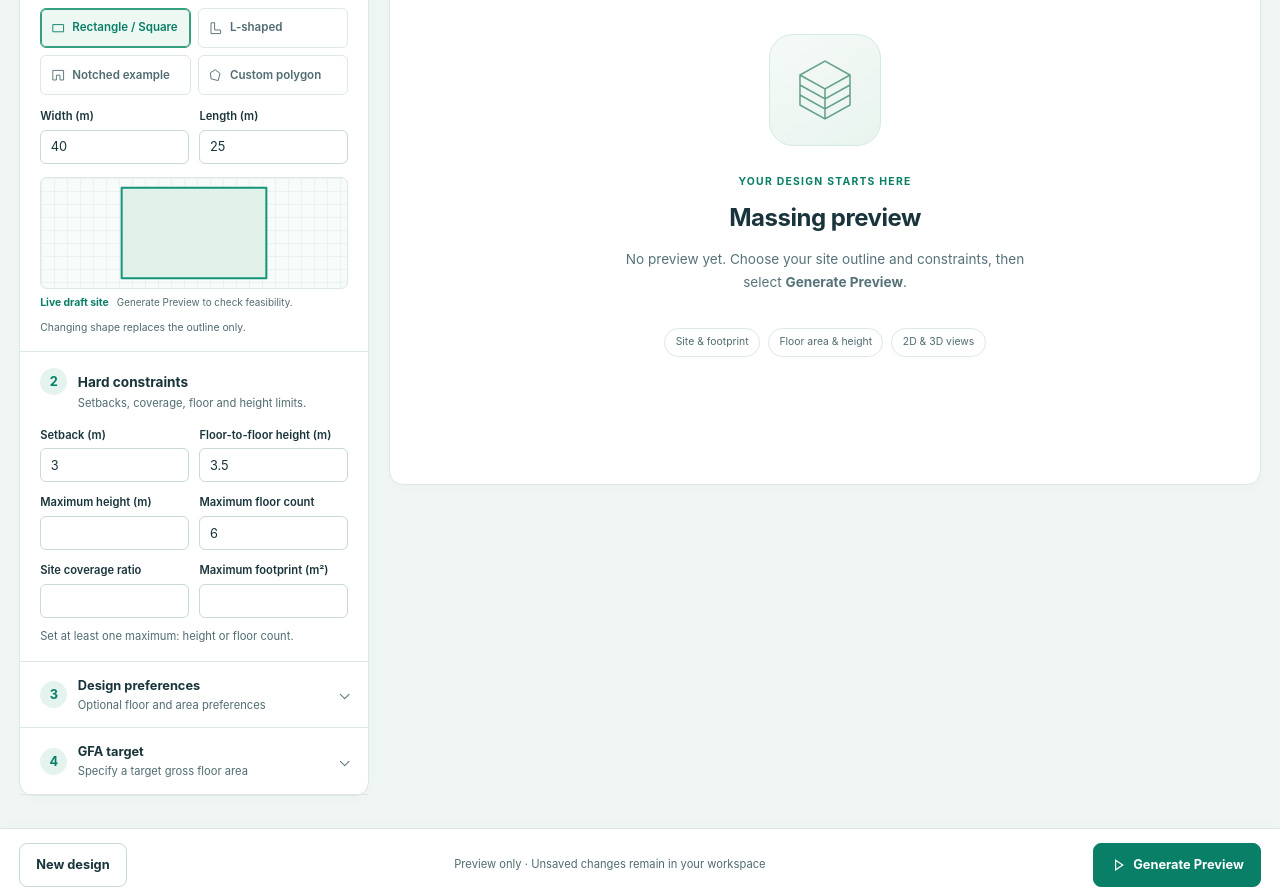
MassingWorkspace › cannot save an earlier input when a successful pending preview arrives after invalid edits
This screenshot has width=1280, height=896.
(page scrolled)
Step 1. Click the button "Generate Preview" → click(1177, 865), box [1093,843,1261,887]
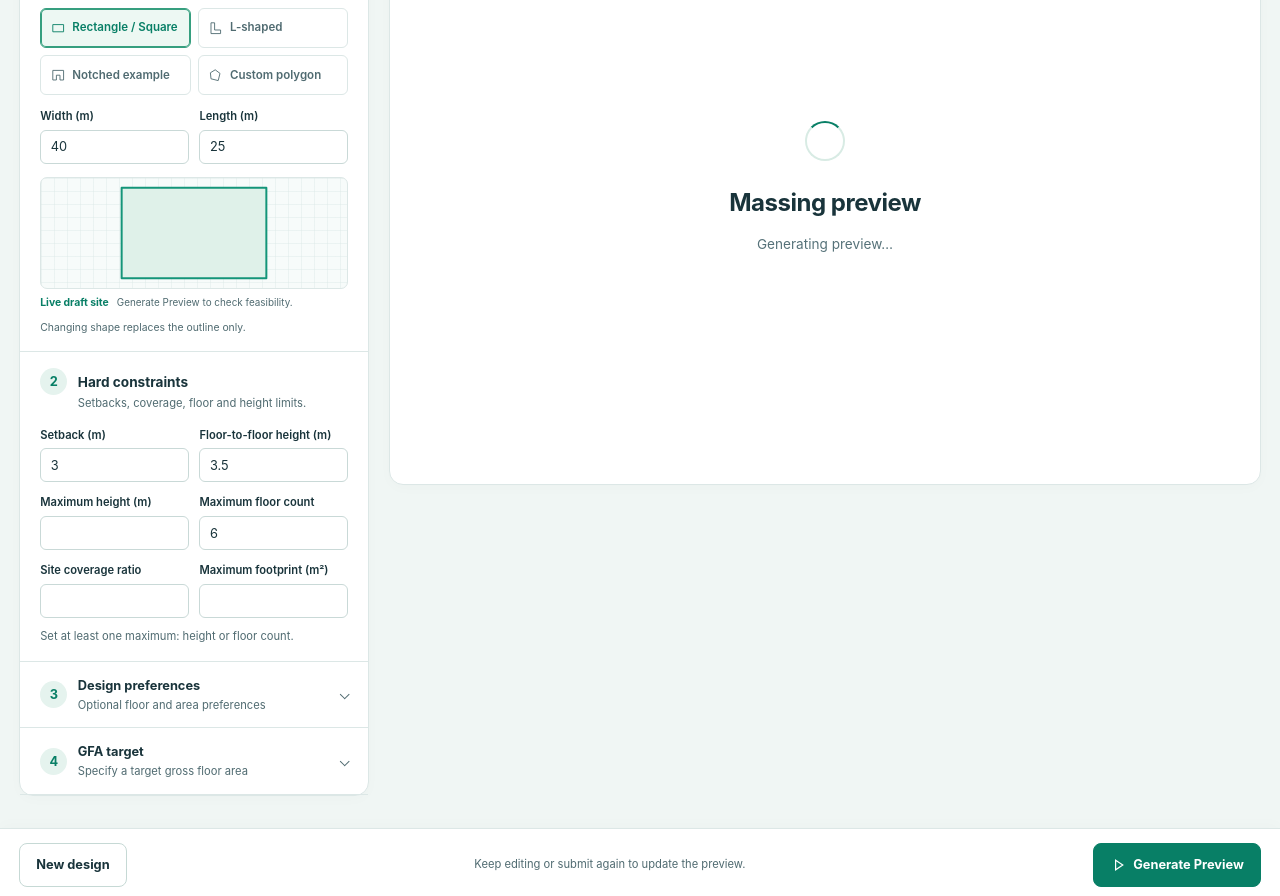
Now the text "Generating preview…" is shown, box [757,233,893,256]
Step 2. Replace the text in the field labelled "Width (m)" with "invalid" → (115, 147), box [40,130,189,164]
(page scrolled)
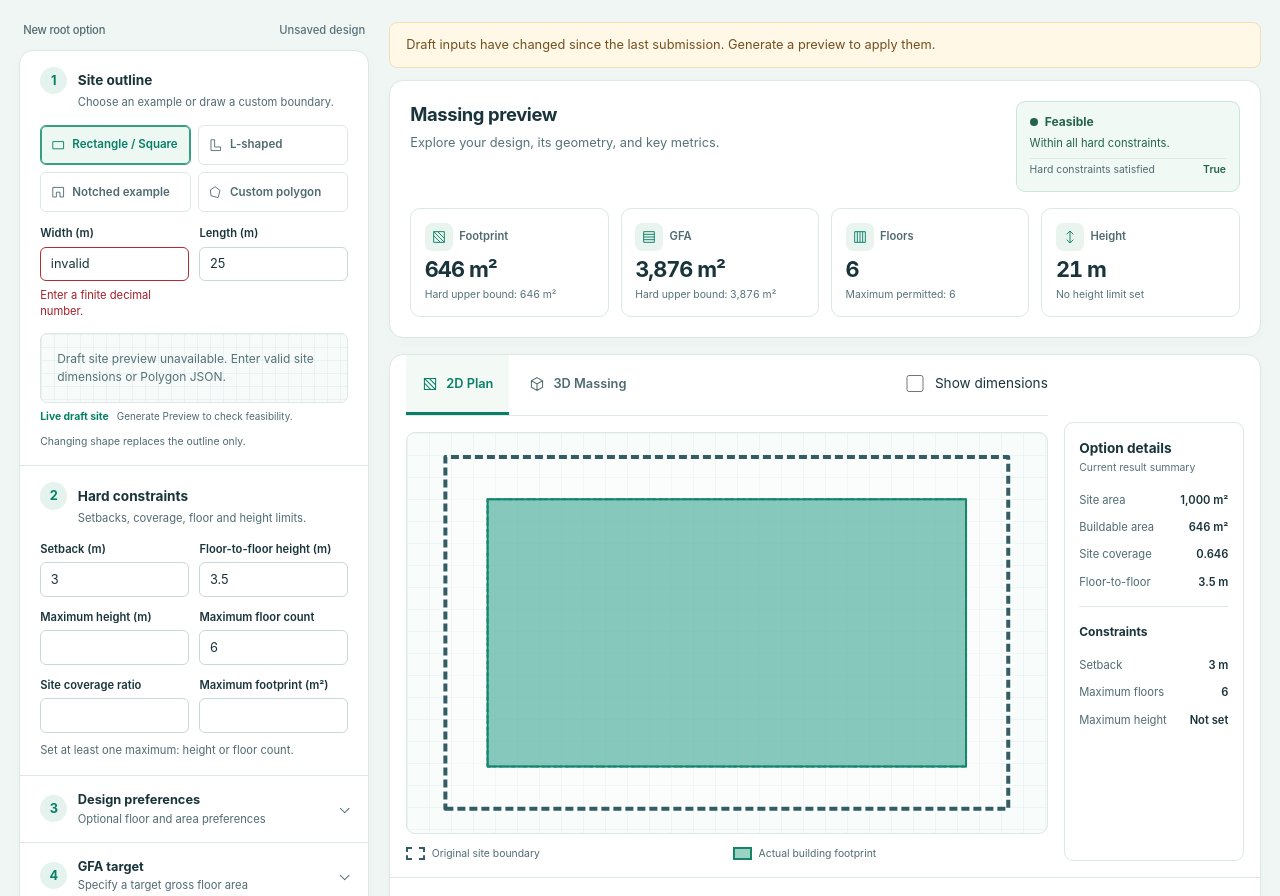
Now the text "Draft inputs have changed" is shown, box [406,37,935,52]
